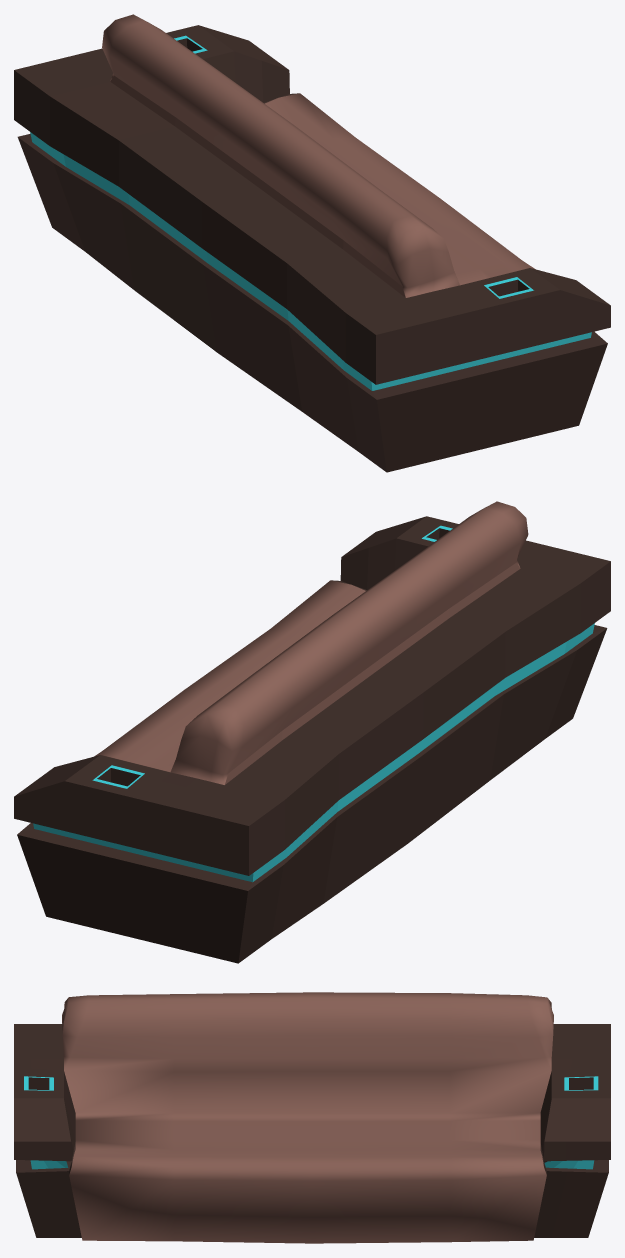
Rendered from couch2.fbx.
3 renders of one model, top to bottom at view 1: azimuth 30°, elevation 25°; view 2: azimuth 150°, elevation 25°; view 3: azimuth 270°, elevation 25°, orthographic. The views are drawn at different scales.
Parts seen in each view (by area): view 1: Cube.001; view 2: Cube.001; view 3: Cube.001.
Part boxes in pixels (x1,y1,x2,y2): Cube.001: [14, 14, 610, 472]; Cube.001: [14, 501, 610, 963]; Cube.001: [14, 992, 610, 1243].
Bounding box in the file's own units: 103 × 89.19 × 260.
